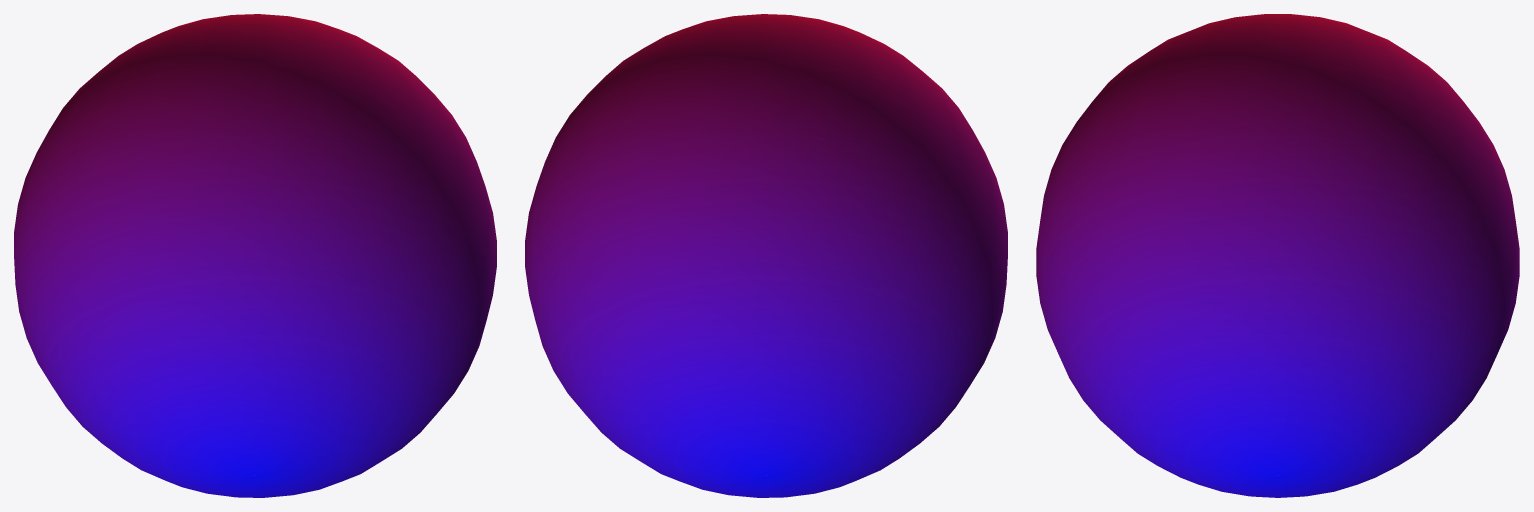
The model's file is sphere_backfaced.glb.
3 views of the same model, side by side, from view 1: azimuth 30°, elevation 25°; view 2: azimuth 150°, elevation 25°; view 3: azimuth 270°, elevation 25° (orthographic).
Parts seen in each view (by area): view 1: Sphere - baked; view 2: Sphere - baked; view 3: Sphere - baked.
Boxes of the visible parts, x1,y1,x2,y2 form: Sphere - baked: (14, 14, 496, 497); Sphere - baked: (525, 14, 1007, 497); Sphere - baked: (1036, 14, 1519, 497).
Size of the model in its own units: 0.0994 by 0.1 by 0.0996.
Materials: 1 (1 with a texture image).
